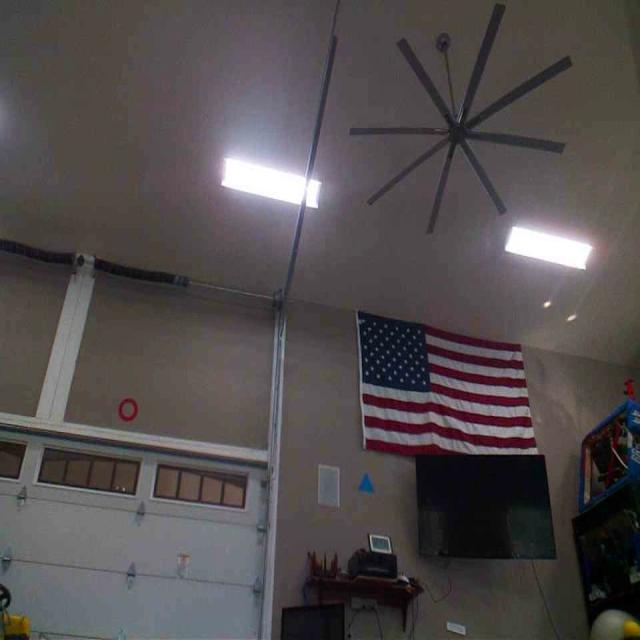ring_red: (117, 396, 139, 420)
triangle_blue: (356, 473, 376, 493)
